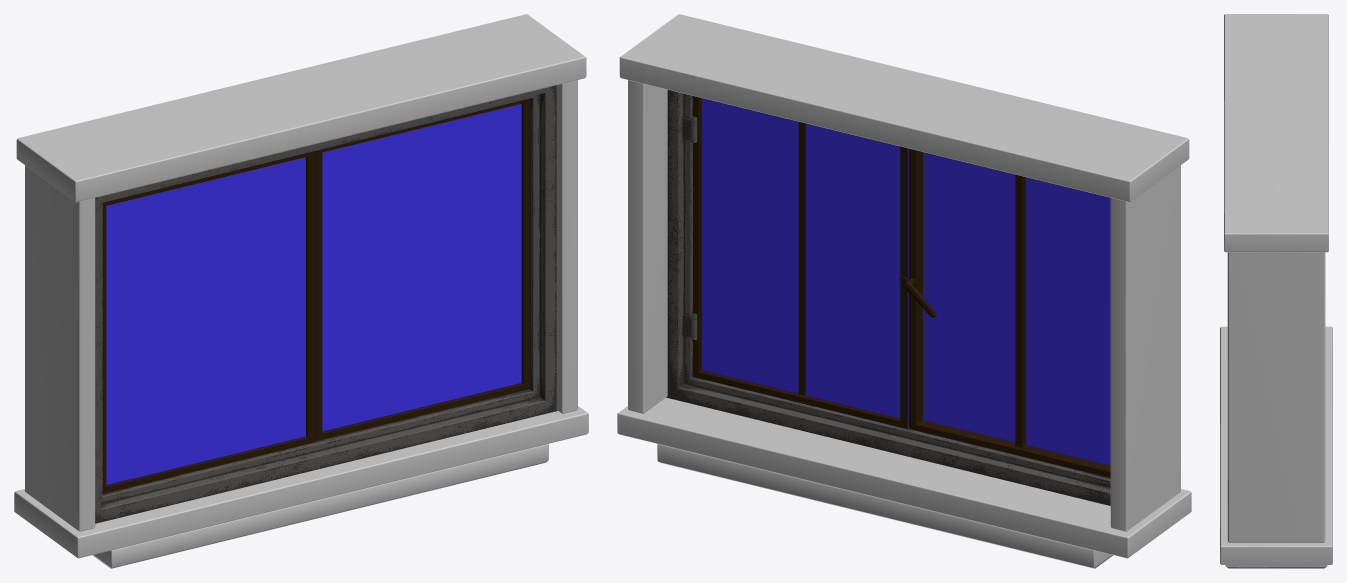
The model's file is Ventana Abrible.FBX.
The picture shows the model from 3 angles, left to right: view 1: azimuth 30°, elevation 25°; view 2: azimuth 150°, elevation 25°; view 3: azimuth 270°, elevation 25°; orthographic projection. The views are drawn at different scales.
Visible parts, largest first — view 1: Window_single, MARCOb, 6, Window_frame; view 2: Window_single, MARCOb, 6, Window_frame; view 3: Window_single.
Boxes of the visible parts, x1=… form: Window_single: x1=14, y1=14, x2=588, y2=568; MARCOb: x1=315, y1=98, x2=529, y2=441; 6: x1=102, y1=151, x2=314, y2=493; Window_frame: x1=95, y1=85, x2=557, y2=523; Window_single: x1=617, y1=14, x2=1191, y2=568; MARCOb: x1=693, y1=96, x2=908, y2=428; 6: x1=904, y1=148, x2=1110, y2=477; Window_frame: x1=666, y1=90, x2=1110, y2=505; Window_single: x1=1220, y1=14, x2=1332, y2=568.
Bounding box in the file's own units: 224 × 167 × 48.57.
